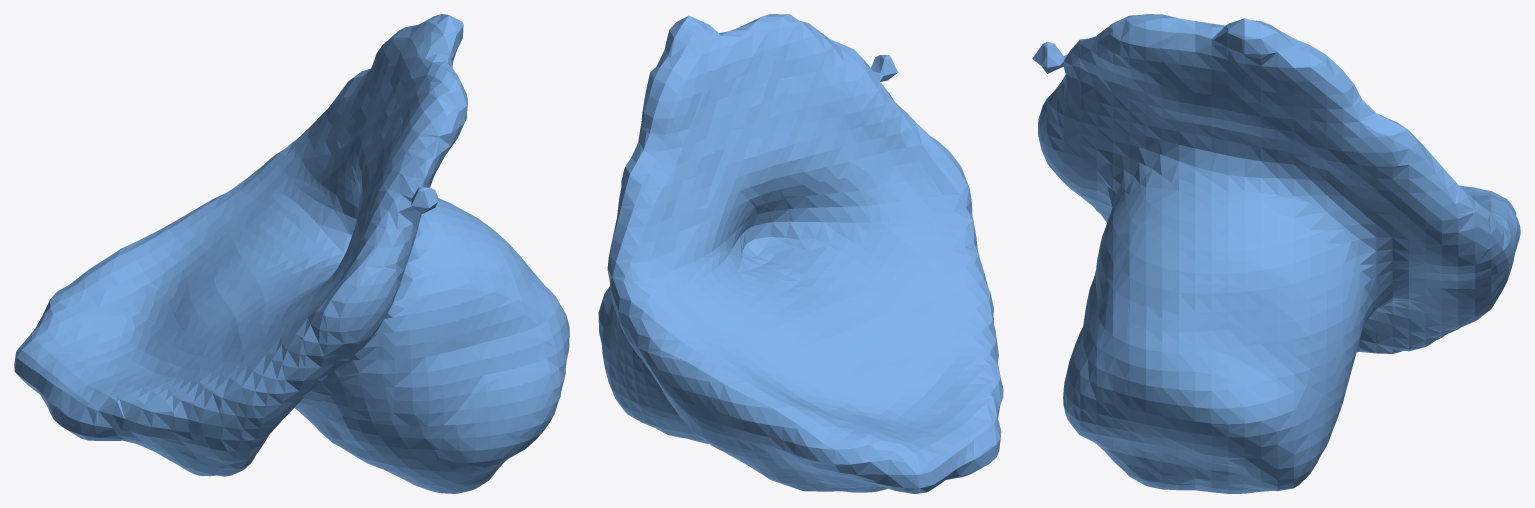
The model's file is water_0019.glb.
3 views of the same model, side by side, from view 1: azimuth 30°, elevation 25°; view 2: azimuth 150°, elevation 25°; view 3: azimuth 270°, elevation 25° (orthographic). The views are drawn at different scales.
Parts seen in each view (by area): view 1: Water_0019; view 2: Water_0019; view 3: Water_0019.
Boxes of the visible parts, x1,y1,x2,y2 form: Water_0019: (14, 14, 569, 493); Water_0019: (598, 14, 1003, 493); Water_0019: (1032, 14, 1520, 493).
Size of the model in its own units: 1.99 by 1.89 by 1.73.
